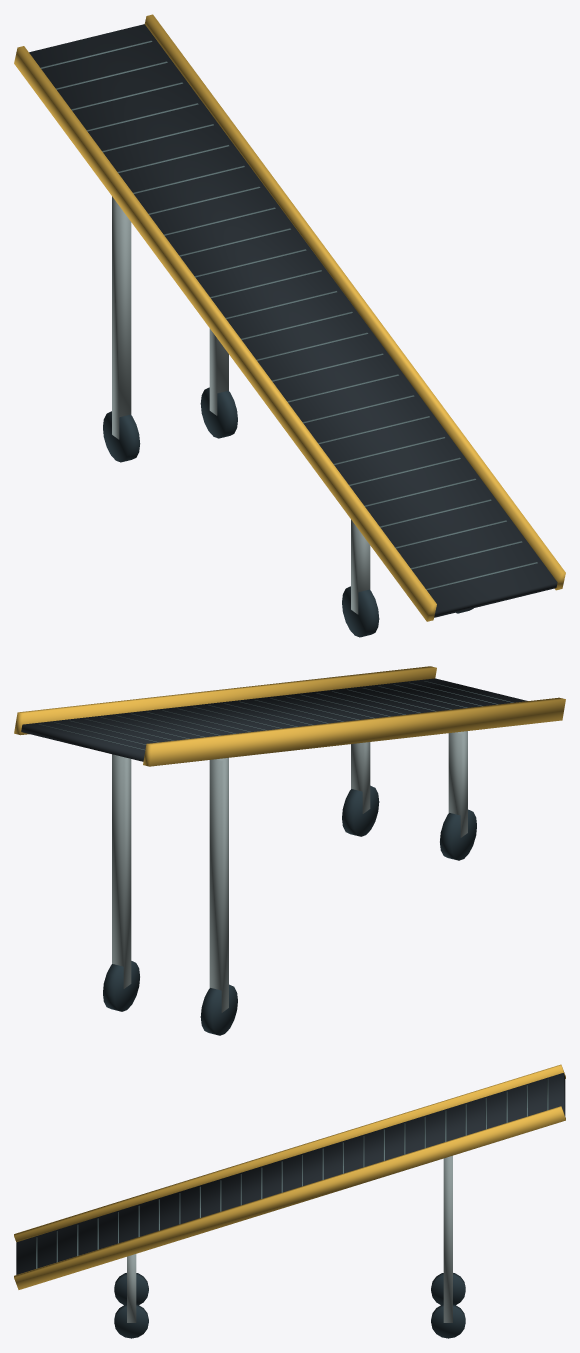
The picture shows the model from 3 angles, top to bottom: view 1: azimuth 30°, elevation 25°; view 2: azimuth 150°, elevation 25°; view 3: azimuth 270°, elevation 25°; orthographic projection. The views are drawn at different scales.
Parts seen in each view (by area): view 1: belt, edge_r, edge_l, leg_1.04_-3.4000000000000004, leg_1.04_-5.6000000000000005, wheel_1.56_-3.4000000000000004, wheel_1.04_-3.4000000000000004, wheel_1.04_-5.6000000000000005, leg_1.56_-3.4000000000000004; view 2: belt, edge_r, edge_l, leg_1.04_-3.4000000000000004, leg_1.56_-3.4000000000000004, leg_1.04_-5.6000000000000005, wheel_1.04_-5.6000000000000005, wheel_1.04_-3.4000000000000004, wheel_1.56_-3.4000000000000004, wheel_1.56_-5.6000000000000005, leg_1.56_-5.6000000000000005; view 3: belt, edge_l, edge_r, leg_1.56_-3.4000000000000004, wheel_1.56_-5.6000000000000005, wheel_1.56_-3.4000000000000004, leg_1.56_-5.6000000000000005, wheel_1.04_-5.6000000000000005, wheel_1.04_-3.4000000000000004.
Boxes of the visible parts, x1,y1,x2,y2 form: belt: (29, 24, 557, 617); edge_r: (14, 46, 436, 621); edge_l: (144, 14, 565, 590); leg_1.04_-3.4000000000000004: (112, 196, 131, 439); leg_1.04_-5.6000000000000005: (351, 519, 370, 614); wheel_1.56_-3.4000000000000004: (200, 387, 237, 438); wheel_1.04_-3.4000000000000004: (103, 411, 140, 462); wheel_1.04_-5.6000000000000005: (342, 586, 379, 637); leg_1.56_-3.4000000000000004: (209, 328, 228, 415); belt: (21, 678, 527, 761); edge_r: (143, 697, 565, 766); edge_l: (14, 666, 436, 735); leg_1.04_-3.4000000000000004: (209, 758, 228, 1012); leg_1.56_-3.4000000000000004: (112, 754, 131, 988); leg_1.04_-5.6000000000000005: (448, 731, 467, 837); wheel_1.04_-5.6000000000000005: (440, 809, 476, 860); wheel_1.04_-3.4000000000000004: (200, 984, 237, 1035); wheel_1.56_-3.4000000000000004: (103, 961, 139, 1011); wheel_1.56_-5.6000000000000005: (342, 785, 379, 836); leg_1.56_-5.6000000000000005: (351, 742, 370, 813); belt: (16, 1073, 565, 1274); edge_l: (14, 1106, 565, 1289); edge_r: (14, 1064, 565, 1242); leg_1.56_-3.4000000000000004: (443, 1155, 452, 1322); wheel_1.56_-5.6000000000000005: (114, 1304, 148, 1338); wheel_1.56_-3.4000000000000004: (431, 1304, 465, 1338); leg_1.56_-5.6000000000000005: (127, 1254, 136, 1322); wheel_1.04_-5.6000000000000005: (114, 1273, 148, 1304); wheel_1.04_-3.4000000000000004: (431, 1273, 465, 1304).
Size of the model in its own units: 0.72 by 3.83 by 1.8.
